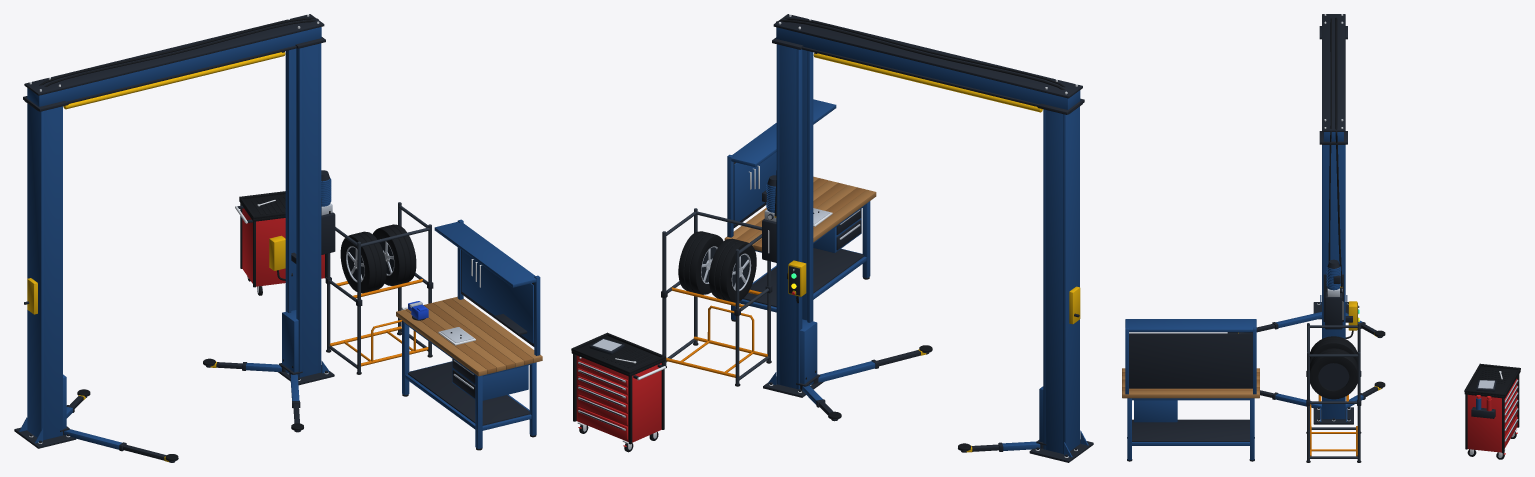
Rendered from workshop_props.glb.
The picture shows the model from 3 angles, left to right: view 1: azimuth 30°, elevation 25°; view 2: azimuth 150°, elevation 25°; view 3: azimuth 270°, elevation 25°; orthographic projection. The views are drawn at different scales.
Visible parts, largest first — view 1: Lift_Columns_Body, Workshop_Workbench_Body, Workshop_TireRack_Body, Workshop_ToolCart_Body, Lift_Carriages_Body; view 2: Lift_Columns_Body, Workshop_Workbench_Body, Workshop_ToolCart_Body, Workshop_TireRack_Body, Lift_Carriages_Body; view 3: Workshop_Workbench_Body, Lift_Columns_Body, Workshop_TireRack_Body, Workshop_ToolCart_Body, Lift_Carriages_Body.
Boxes of the visible parts, x1=… form: Lift_Columns_Body: x1=14, y1=14, x2=335, y2=448; Workshop_Workbench_Body: x1=396, y1=219, x2=542, y2=450; Workshop_TireRack_Body: x1=325, y1=202, x2=433, y2=374; Workshop_ToolCart_Body: x1=235, y1=191, x2=326, y2=295; Lift_Carriages_Body: x1=60, y1=310, x2=303, y2=462; Lift_Columns_Body: x1=762, y1=14, x2=1093, y2=462; Workshop_Workbench_Body: x1=724, y1=99, x2=876, y2=321; Workshop_ToolCart_Body: x1=571, y1=332, x2=665, y2=452; Workshop_TireRack_Body: x1=661, y1=208, x2=772, y2=386; Lift_Carriages_Body: x1=796, y1=319, x2=1046, y2=452; Workshop_Workbench_Body: x1=1122, y1=319, x2=1259, y2=461; Lift_Columns_Body: x1=1313, y1=14, x2=1359, y2=424; Workshop_TireRack_Body: x1=1306, y1=323, x2=1361, y2=462; Workshop_ToolCart_Body: x1=1464, y1=363, x2=1520, y2=459; Lift_Carriages_Body: x1=1227, y1=312, x2=1385, y2=409.
Size of the model in its own units: 4.52 by 3.89 by 4.75.
